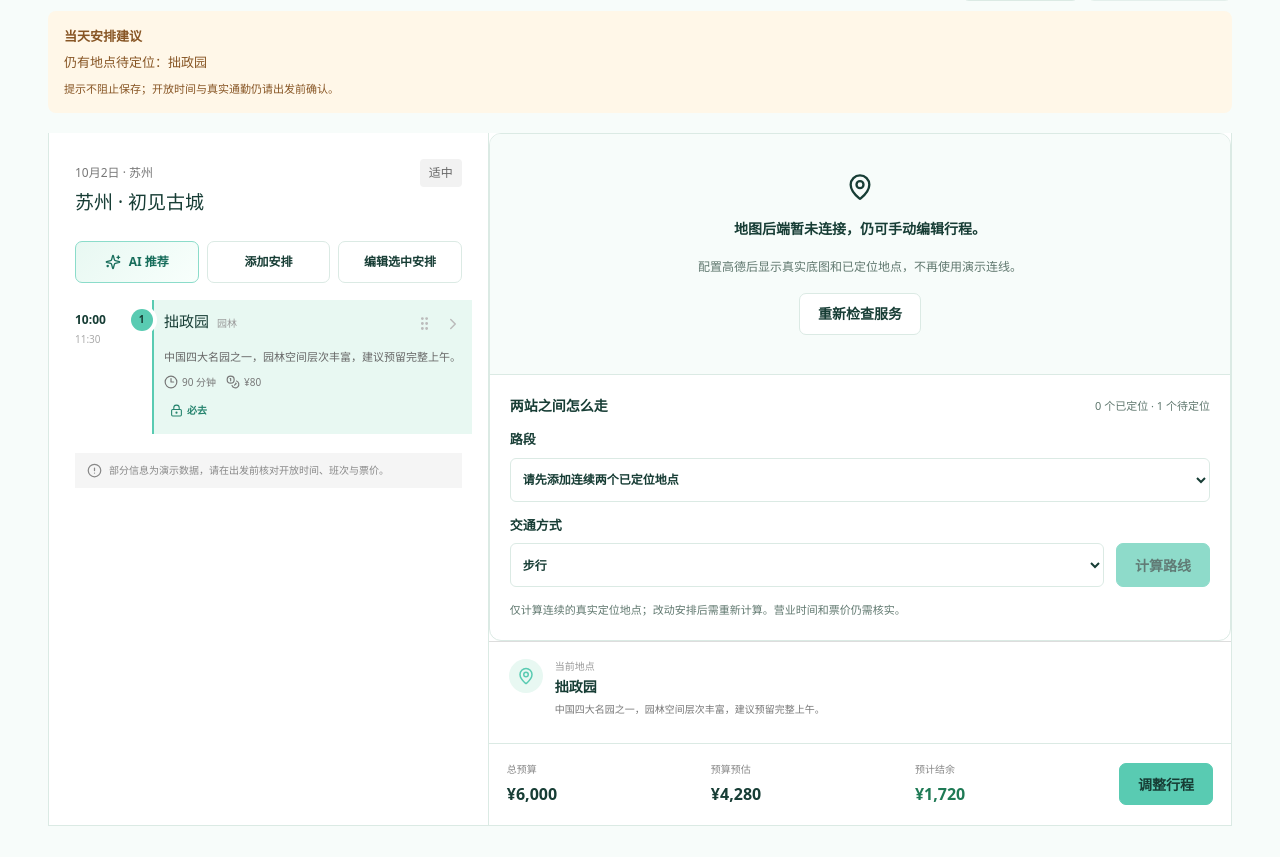
Test: 移动当天唯一安排后展示空状态而不是崩溃
(page scrolled)
Click the button "调整行程" at (1166,784), box x1=1119 y1=764 x2=1213 y2=806
(page scrolled)
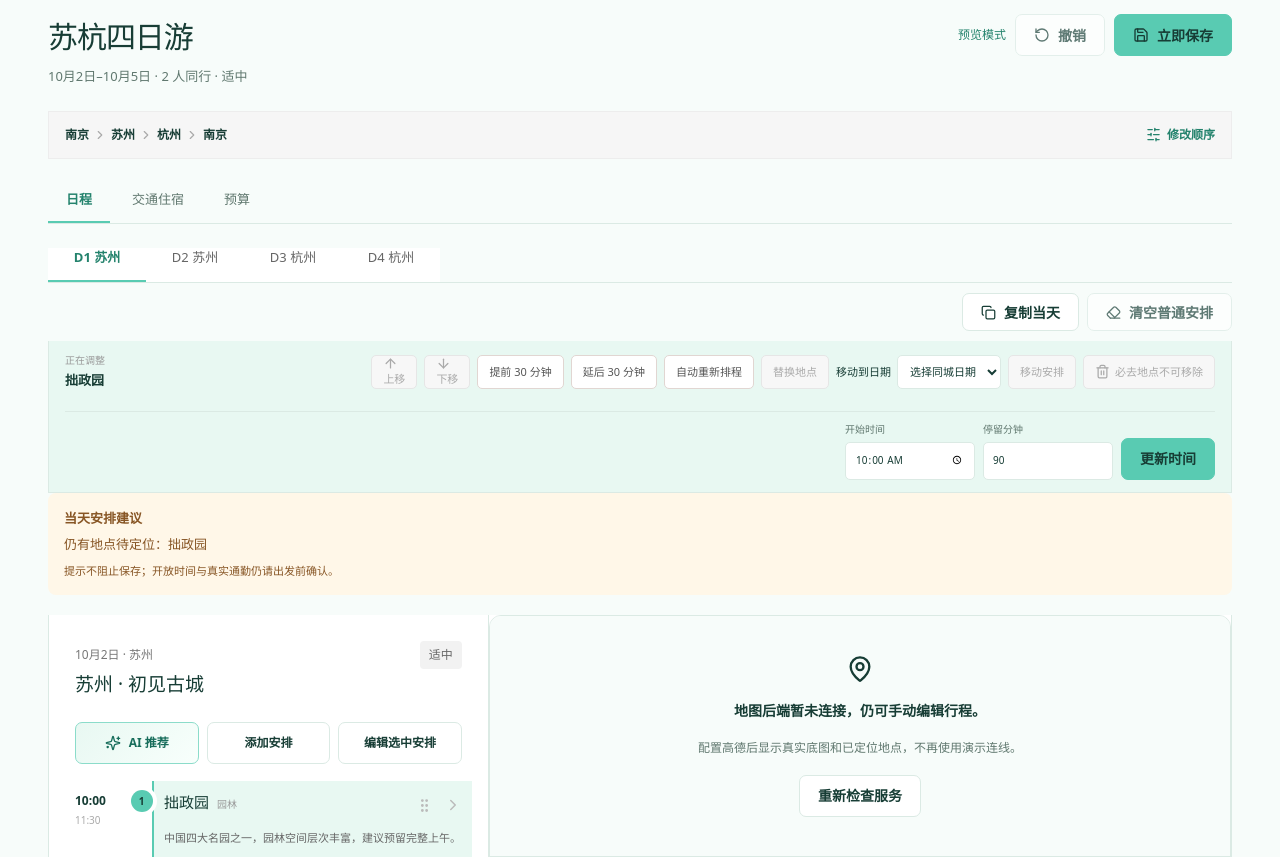
Select "D2 苏州" in the dropdown labelled "移动到日期" at (949,372), box x1=897 y1=355 x2=1001 y2=389
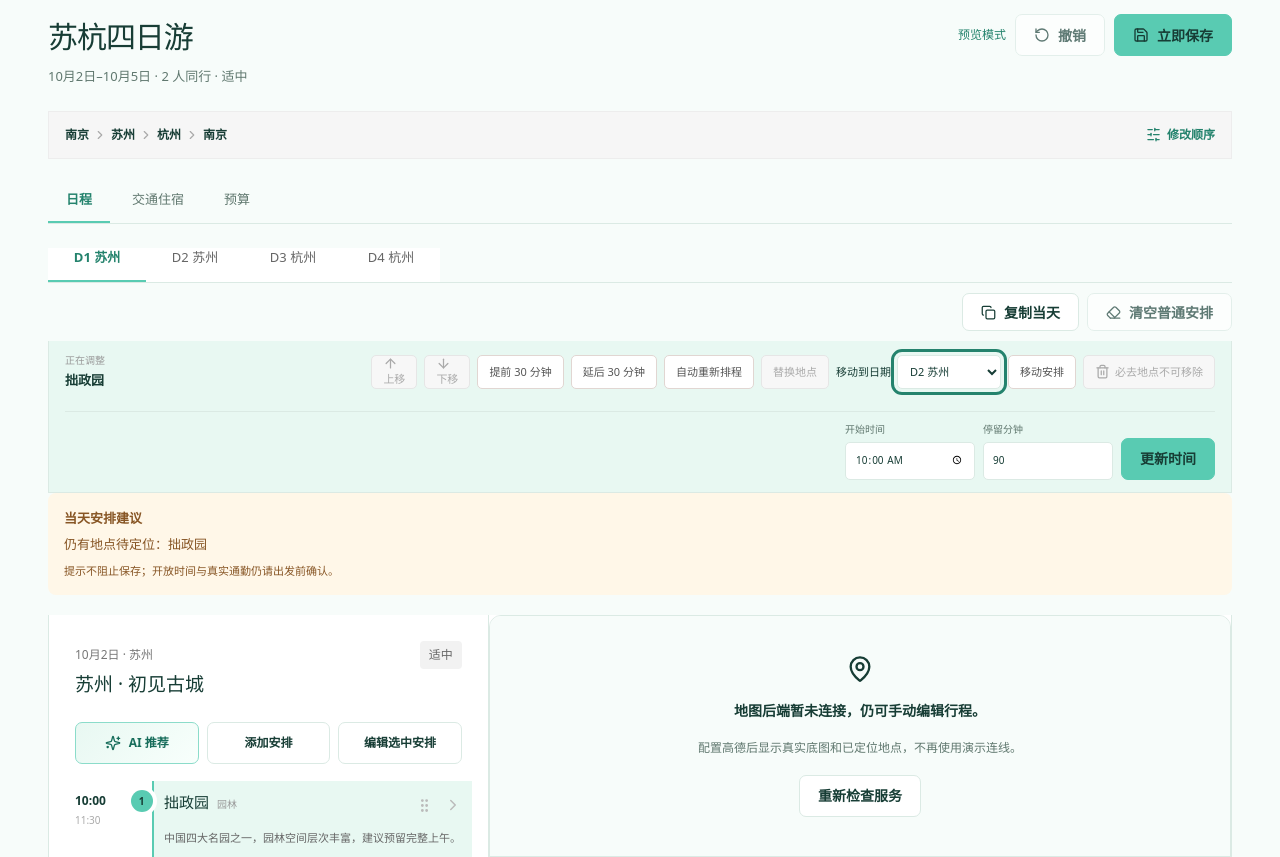
Click the button "移动安排" at (1042,372), box x1=1008 y1=355 x2=1076 y2=389
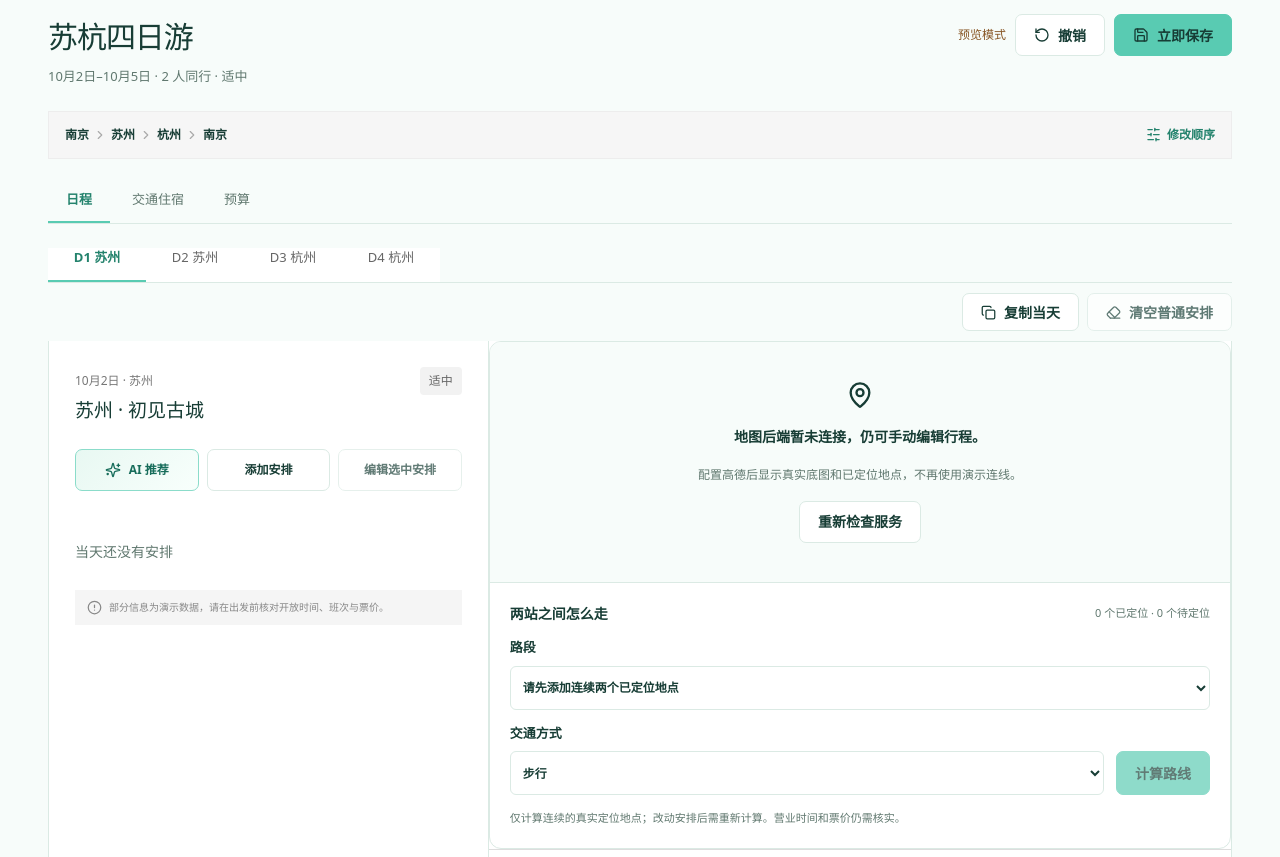
Expected: the text "当天还没有安排" is shown, x1=75 y1=542 x2=173 y2=560
Click the tab "D2 苏州" at (195,265), box x1=146 y1=248 x2=244 y2=282
(page scrolled)
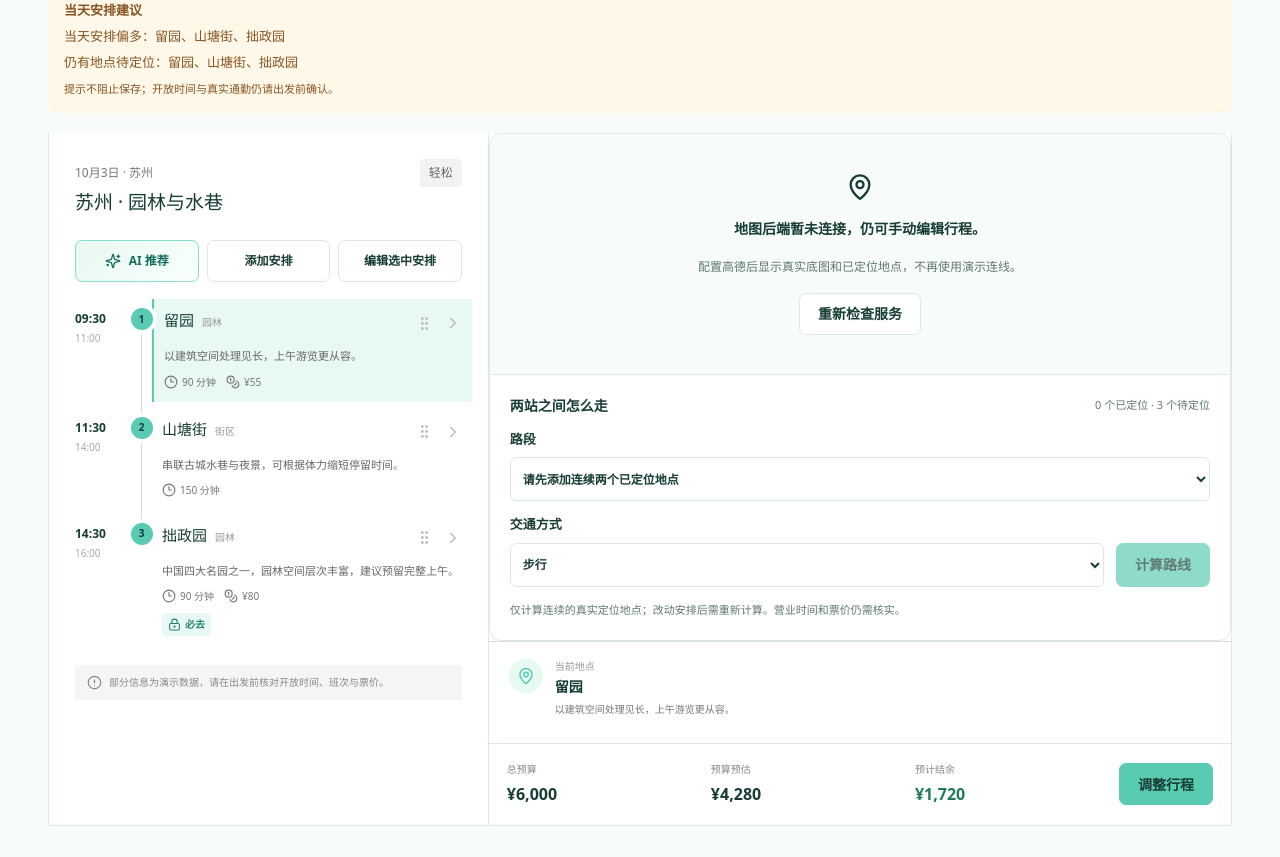
Expected: the heading "拙政园" is shown, x1=162 y1=525 x2=207 y2=545
